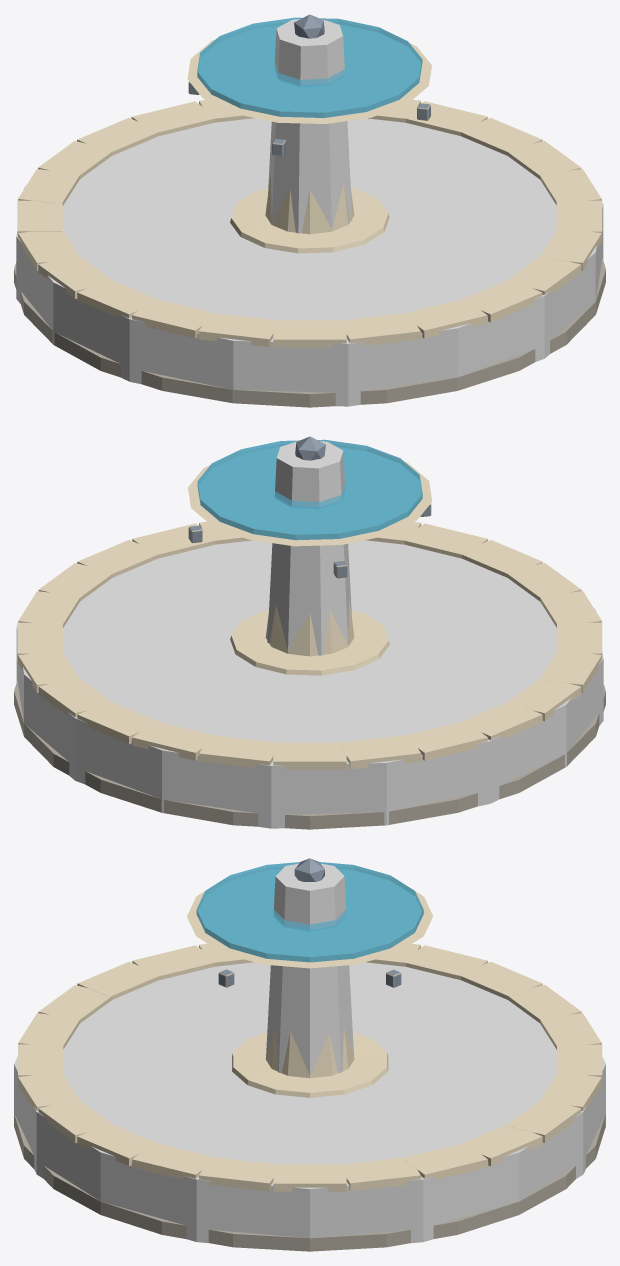
Rendered from prop_fountain_a.glb.
3 views of the same model, one above another, from view 1: azimuth 30°, elevation 25°; view 2: azimuth 150°, elevation 25°; view 3: azimuth 270°, elevation 25° (orthographic).
Visible parts, largest first — view 1: COL_prop_fountain_a_1, prop_fountain_a, COL_prop_fountain_a_2; view 2: COL_prop_fountain_a_1, prop_fountain_a, COL_prop_fountain_a_2; view 3: COL_prop_fountain_a_1, prop_fountain_a, COL_prop_fountain_a_2.
Boxes of the visible parts, x1,y1,x2,y2 form: COL_prop_fountain_a_1: (16,118,603,406); prop_fountain_a: (14,14,605,407); COL_prop_fountain_a_2: (268,19,352,233); COL_prop_fountain_a_1: (16,540,603,828); prop_fountain_a: (14,436,605,829); COL_prop_fountain_a_2: (267,441,351,655); COL_prop_fountain_a_1: (14,962,605,1242); prop_fountain_a: (14,858,605,1251); COL_prop_fountain_a_2: (266,863,353,1075).
Bounding box in the file's own units: 6 × 3 × 6.
